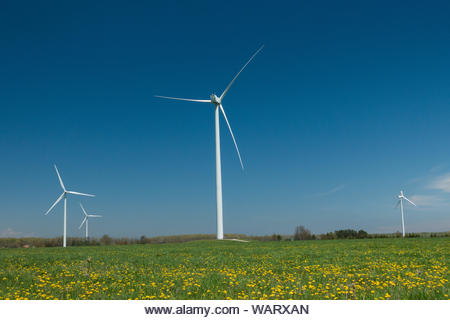faulty: (391, 185, 420, 230)
working: (153, 48, 276, 176), (40, 163, 95, 206)
